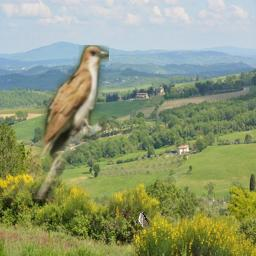Cuckoo: (21, 45, 109, 199)
Swallow: (135, 202, 152, 231)
